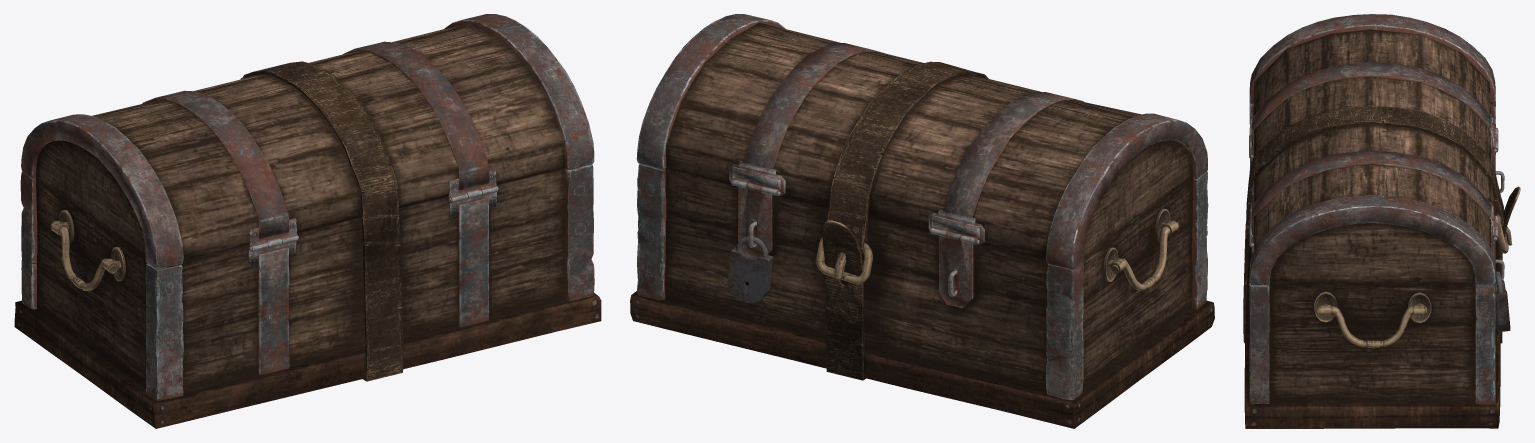
The model's file is Chest2.fbx.
The picture shows the model from 3 angles, left to right: view 1: azimuth 30°, elevation 25°; view 2: azimuth 150°, elevation 25°; view 3: azimuth 270°, elevation 25°; orthographic projection. The views are drawn at different scales.
Parts seen in each view (by area): view 1: defaultMaterial; view 2: defaultMaterial; view 3: defaultMaterial.
Boxes of the visible parts, left/top/right/bottom form: defaultMaterial: left=14, top=14, right=601, bottom=428; defaultMaterial: left=630, top=14, right=1214, bottom=428; defaultMaterial: left=1243, top=14, right=1520, bottom=428.
Bounding box in the file's own units: 200 × 103 × 115.
